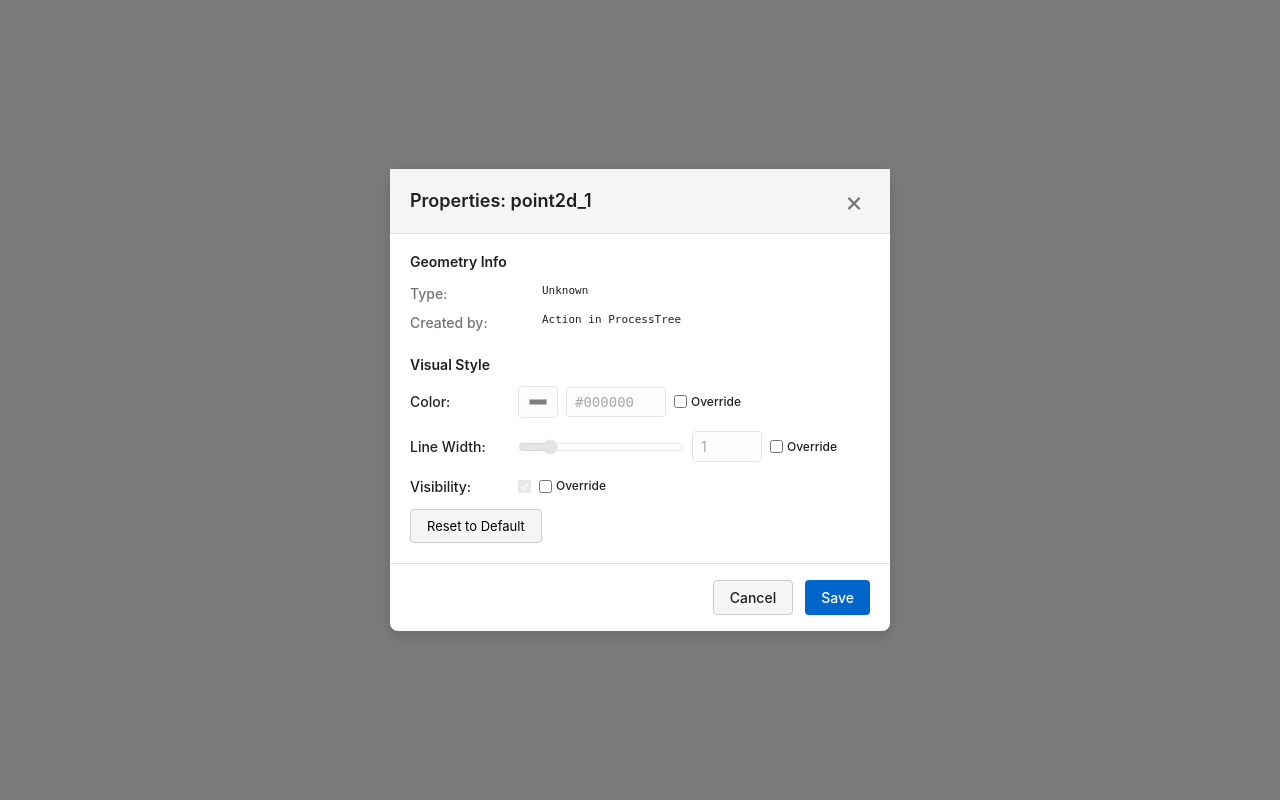
Scenario: PropertiesDialog › Reset to default › should clear all overrides when reset button clicked
# Enable color override
Click the checkbox labelled "Override" in the row of "Color:": (680, 402) [674,395,687,408]
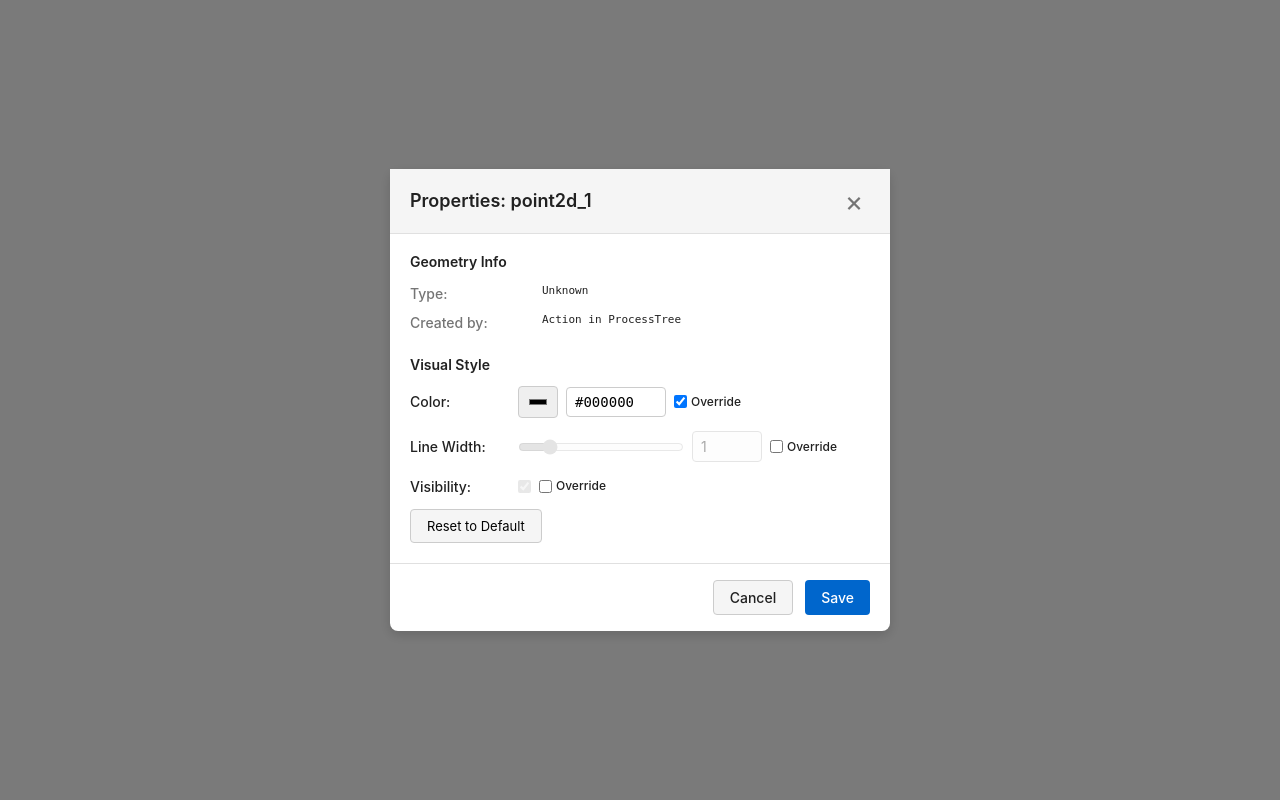
# Set color
In the field with class "hex-input": (616, 402) [566,387,666,417], type "#FF5733"
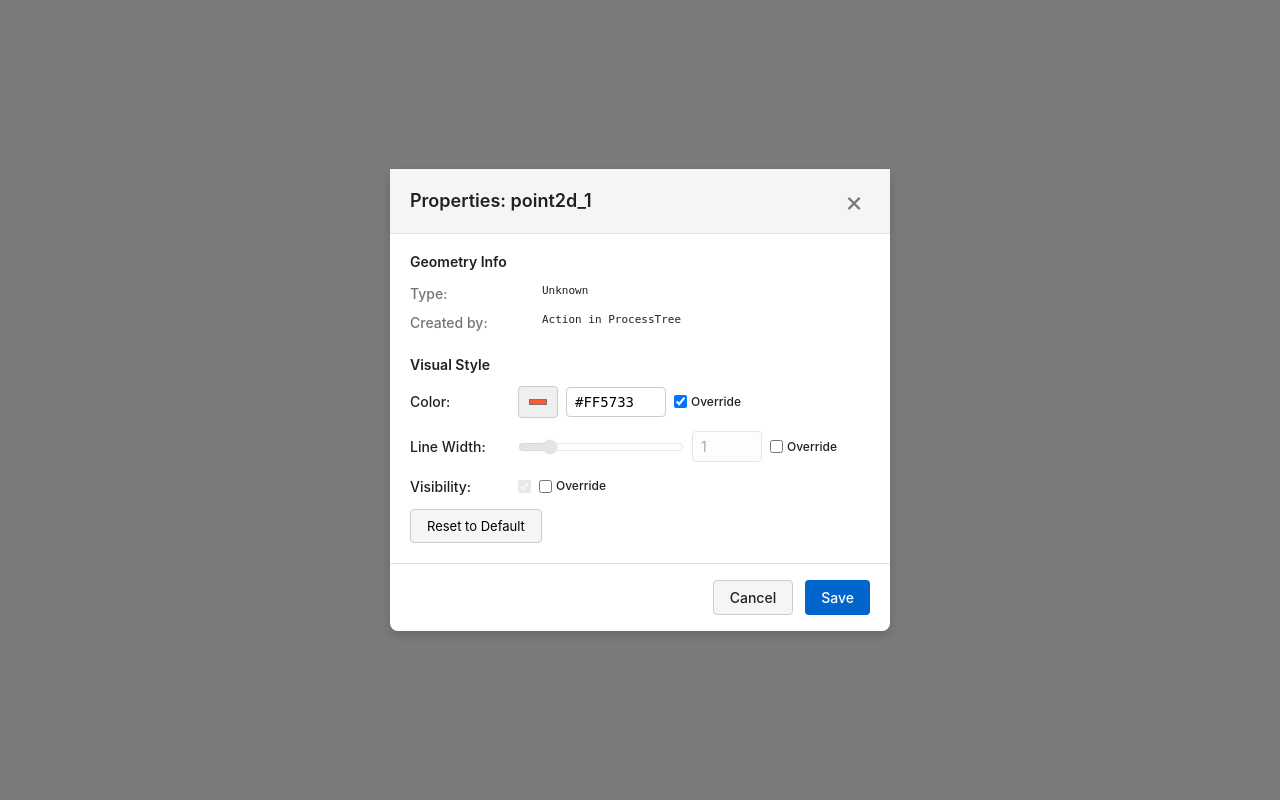
# Click reset button
Click the button with class "reset-button": (476, 526) [410,509,542,543]
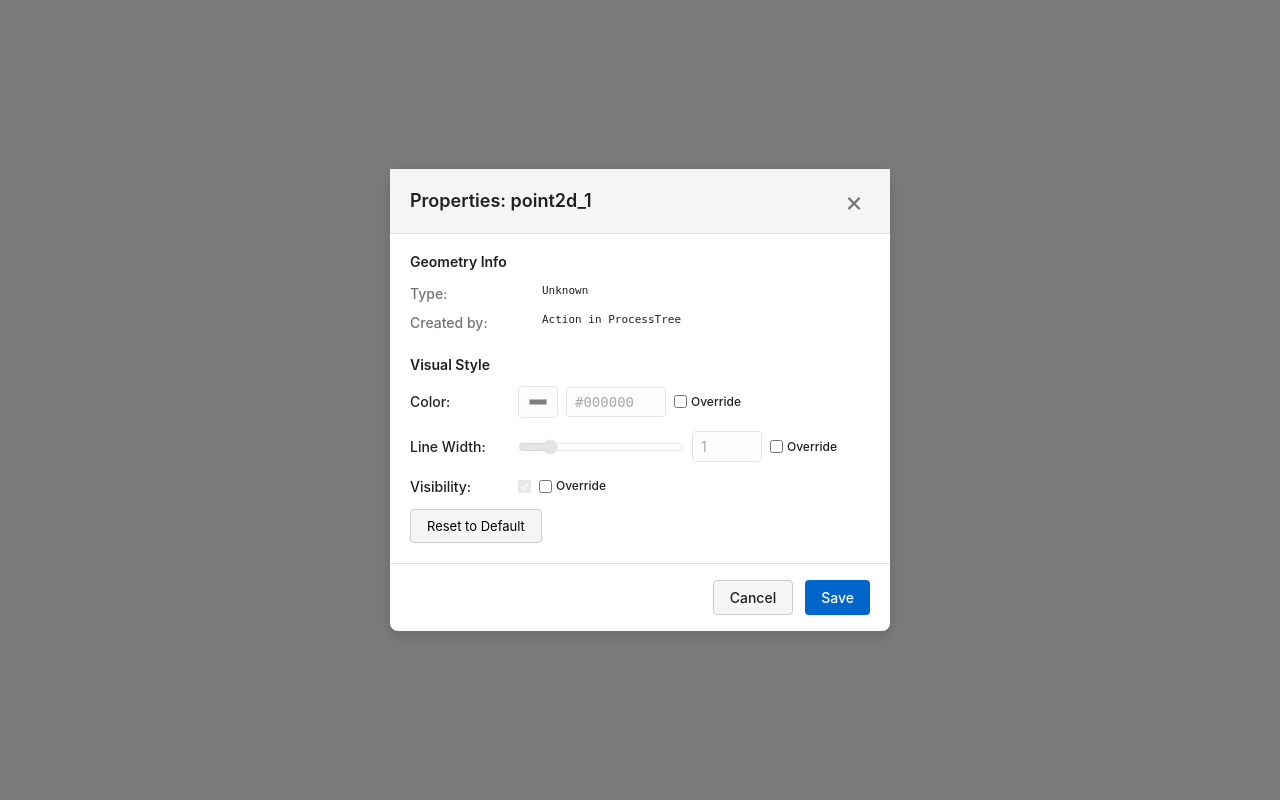
Expected: the checkbox labelled "Override" in the row of "Color:" is not checked, [674,395,687,408]
Expected: the field with class "hex-input" holds "#000000", [566,387,666,417]
